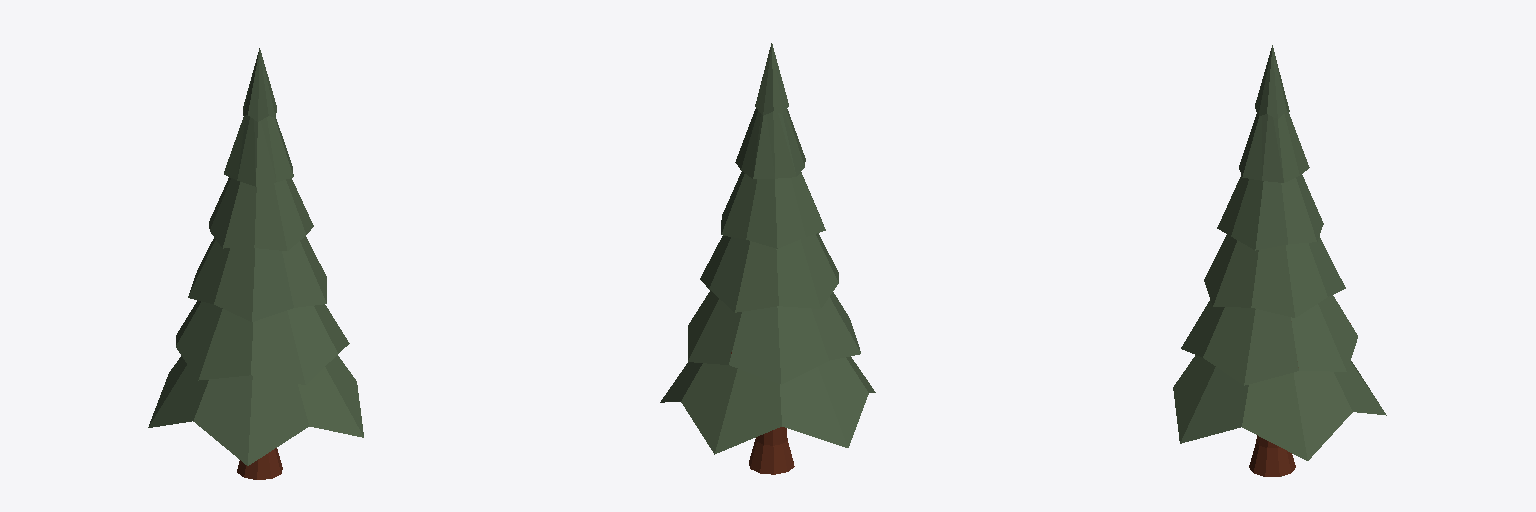
3 renders of one model, left to right at view 1: azimuth 30°, elevation 25°; view 2: azimuth 150°, elevation 25°; view 3: azimuth 270°, elevation 25°, orthographic.
Parts seen in each view (by area): view 1: tree, tree.001; view 2: tree, tree.001; view 3: tree, tree.001.
Part boxes in pixels (left/top/right/bottom): tree: left=148, top=48, right=363, bottom=465; tree.001: left=237, top=448, right=282, bottom=479; tree: left=660, top=43, right=875, bottom=454; tree.001: left=749, top=427, right=794, bottom=474; tree: left=1173, top=45, right=1386, bottom=460; tree.001: left=1249, top=435, right=1295, bottom=476.
Size of the model in its own units: 6.93 by 14.86 by 6.81.
1 materials, 1 textured.